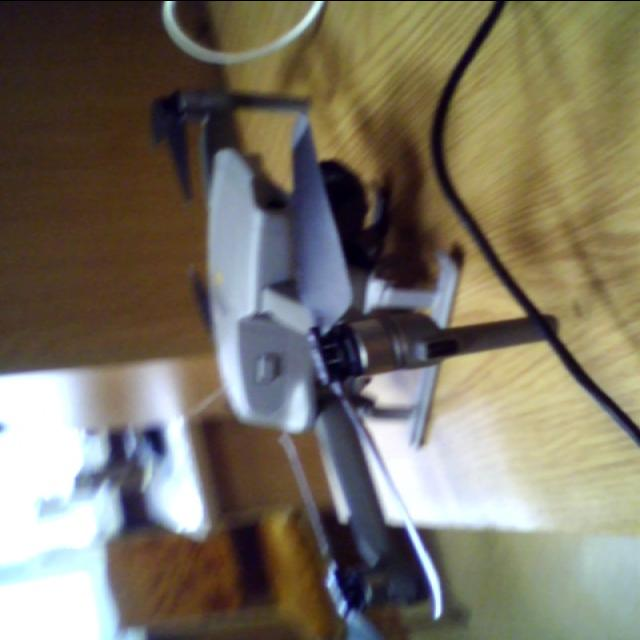drone: (143, 27, 546, 640)
